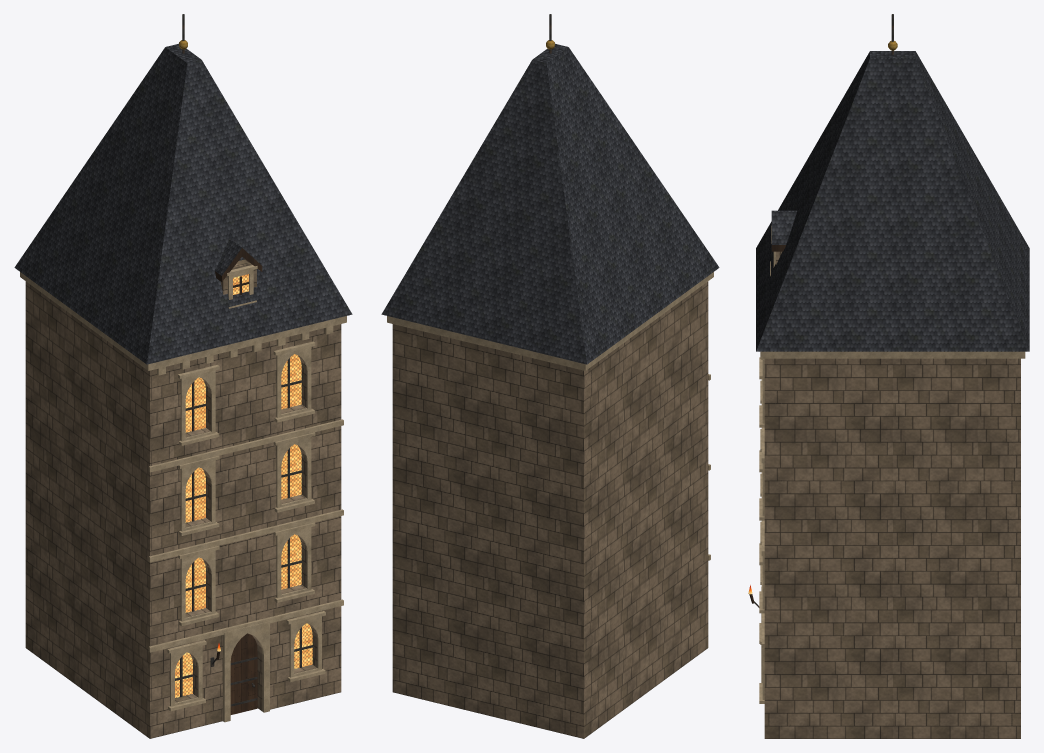
Rendered from house_gothic_tower.gltf.
3 views of the same model, side by side, from view 1: azimuth 30°, elevation 25°; view 2: azimuth 150°, elevation 25°; view 3: azimuth 270°, elevation 25° (orthographic). The views are drawn at different scales.
Parts seen in each view (by area): view 1: house_gothic_tower_mesh, INT_door_house_gothic_tower, INT_window_house_gothic_tower_1, INT_window_house_gothic_tower_0; view 2: house_gothic_tower_mesh; view 3: house_gothic_tower_mesh.
Part boxes in pixels (x1=…): house_gothic_tower_mesh: x1=14, y1=14, x2=352, y2=738; INT_door_house_gothic_tower: x1=230, y1=633, x2=257, y2=714; INT_window_house_gothic_tower_1: x1=281, y1=534, x2=302, y2=589; INT_window_house_gothic_tower_0: x1=185, y1=557, x2=206, y2=612; house_gothic_tower_mesh: x1=381, y1=14, x2=719, y2=738; house_gothic_tower_mesh: x1=756, y1=14, x2=1029, y2=738.
Size of what is drawn, in the model's own units: 8.6 by 26.2 by 9.87.
Materials: 10 (10 with a texture image).
